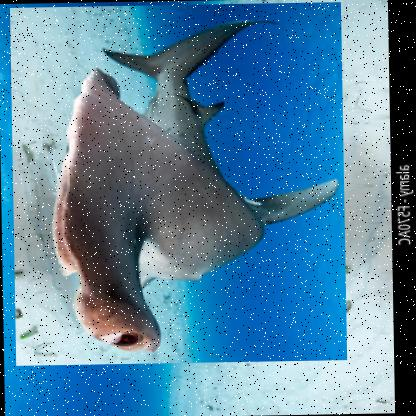hammerhead_Shark: (8, 1, 346, 366)
